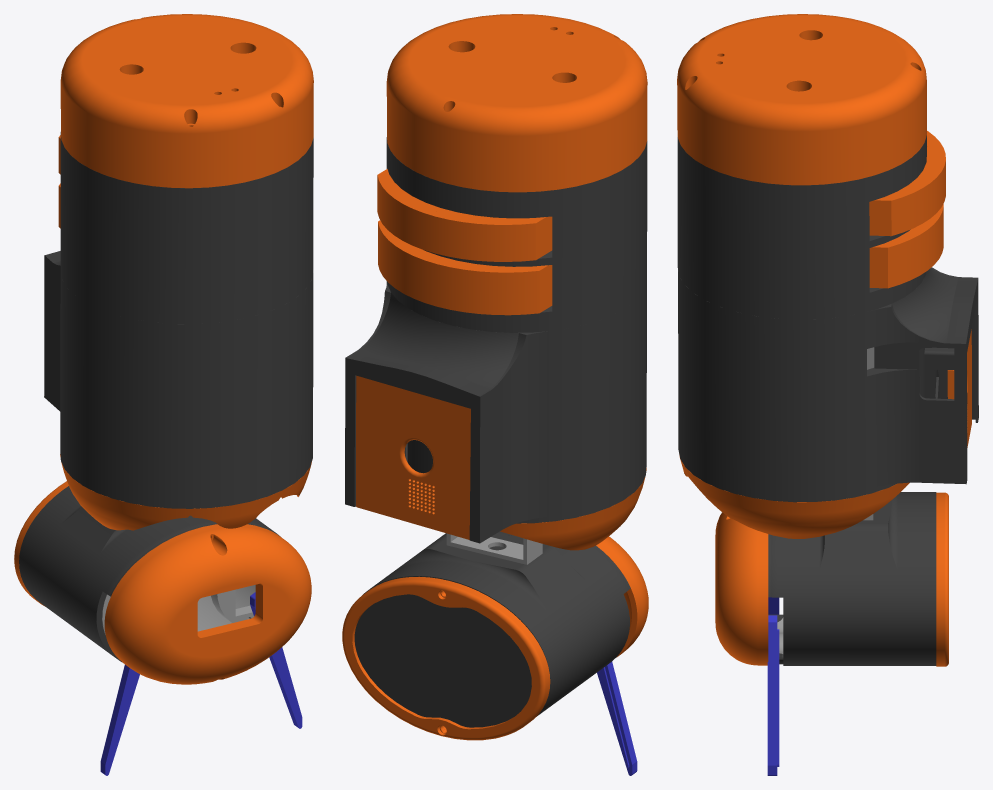
The model's file is DIGI_HOME_V1.obj.
3 renders of one model, left to right at view 1: azimuth 30°, elevation 25°; view 2: azimuth 150°, elevation 25°; view 3: azimuth 270°, elevation 25°, orthographic. The views are drawn at different scales.
Visible parts, largest first — view 1: Body1:5, Body1:4, Body1:6, Body1:1, head_part02, Body1:14, Body1:3, antenna_01, antenna_02, Body1; view 2: Body1:5, Body1:4, Body1:6, head_part02, Body1:2, Body3, Body1:12, Body1, Body1:13, Body1:14, Body1:1, antenna_01 (+1 smaller); view 3: Body1:5, Body1:4, Body1:6, head_part02, Body1:1, Body1:14, Body1:13, Body1:12, Body1, antenna_02, Body1:15, Body3.
Boxes of the visible parts, x1,y1,x2,y2 form: Body1:5: [44, 251, 313, 508]; Body1:4: [60, 14, 313, 188]; Body1:6: [60, 132, 313, 324]; Body1:1: [104, 524, 311, 684]; head_part02: [19, 486, 280, 662]; Body1:14: [60, 454, 311, 530]; Body1:3: [102, 585, 255, 634]; antenna_01: [100, 664, 139, 775]; antenna_02: [250, 592, 302, 728]; Body1: [14, 481, 68, 606]; Body1:5: [345, 281, 646, 543]; Body1:4: [386, 14, 647, 192]; Body1:6: [386, 137, 647, 332]; head_part02: [362, 531, 630, 716]; Body1:2: [354, 594, 531, 727]; Body3: [356, 375, 470, 539]; Body1:12: [378, 220, 552, 315]; Body1: [342, 576, 550, 740]; Body1:13: [377, 169, 552, 261]; Body1:14: [500, 468, 646, 550]; Body1:1: [596, 536, 648, 657]; antenna_01: [597, 661, 637, 775]; Body1:5: [678, 267, 978, 502]; Body1:4: [677, 14, 926, 185]; Body1:6: [677, 135, 926, 319]; head_part02: [768, 492, 936, 665]; Body1:1: [715, 512, 768, 665]; Body1:14: [679, 455, 909, 538]; Body1:13: [869, 131, 945, 236]; Body1:12: [869, 204, 943, 288]; Body1: [936, 492, 948, 666]; antenna_02: [767, 615, 779, 775]; Body1:15: [924, 347, 954, 398]; Body3: [947, 329, 971, 447].
Size of the model in its own units: 11.78 by 34.9 by 14.24.
